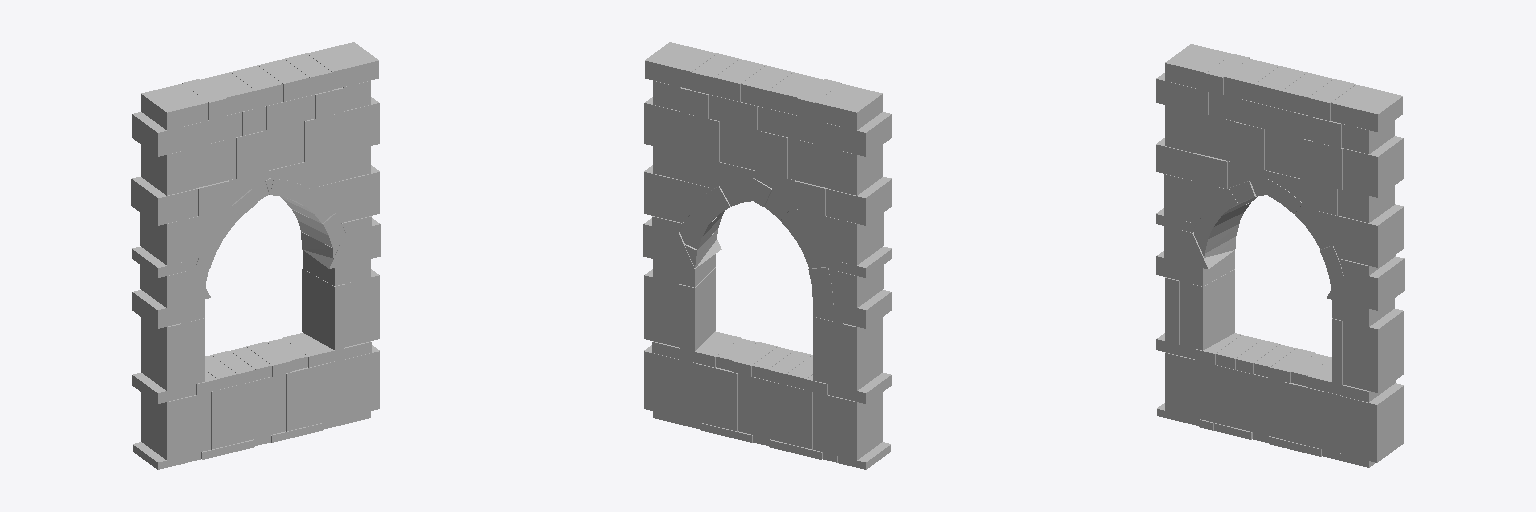
The model's file is Arch1.obj.
3 renders of one model, left to right at view 1: azimuth 30°, elevation 25°; view 2: azimuth 150°, elevation 25°; view 3: azimuth 330°, elevation 25°, orthographic.
Visible parts, largest first — view 1: Arch_Wall; view 2: Arch_Wall; view 3: Arch_Wall.
Boxes of the visible parts, <box> form: Arch_Wall: <box>131,42,380,469</box>; Arch_Wall: <box>643,42,891,469</box>; Arch_Wall: <box>1156,44,1404,467</box>.
Bounding box in the file's own units: 9.8 × 14.99 × 2.09.